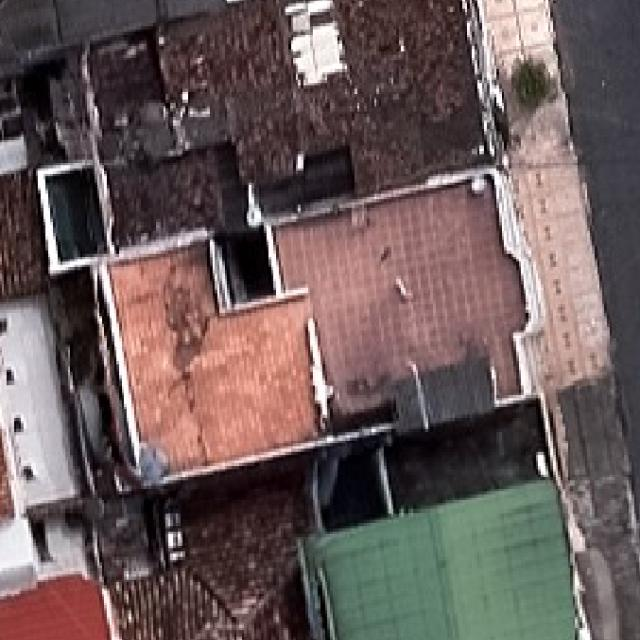Batiment: (274, 182, 525, 415), (106, 242, 316, 474), (301, 480, 575, 639), (0, 169, 45, 300)
